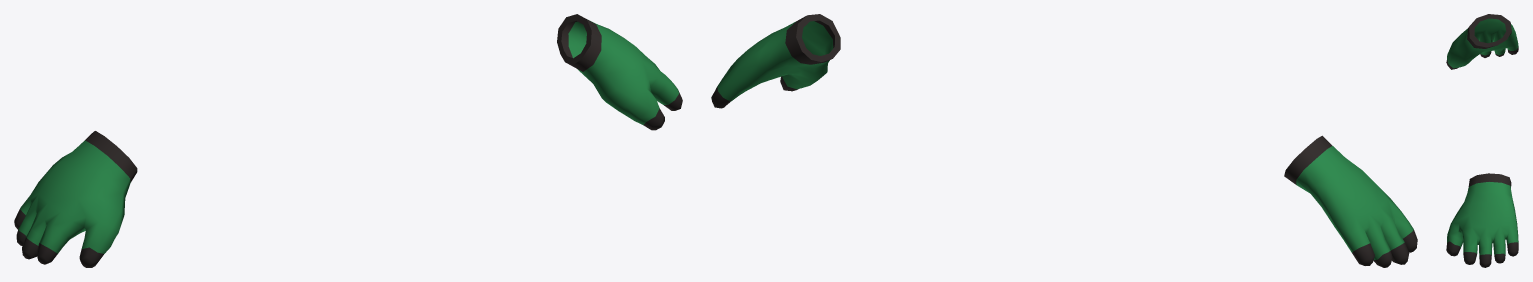
Rendered from Gloves_04.glb.
3 views of the same model, side by side, from view 1: azimuth 30°, elevation 25°; view 2: azimuth 150°, elevation 25°; view 3: azimuth 270°, elevation 25° (orthographic). The views are drawn at different scales.
Parts seen in each view (by area): view 1: Gloves_04; view 2: Gloves_04; view 3: Gloves_04.
Part boxes in pixels (x1=…): Gloves_04: x1=14, y1=14, x2=682, y2=267; Gloves_04: x1=711, y1=14, x2=1417, y2=267; Gloves_04: x1=1446, y1=14, x2=1518, y2=267.
Size of the model in its own units: 0.8285 by 0.1244 by 0.1179.
Materials: 1 (1 with a texture image).
